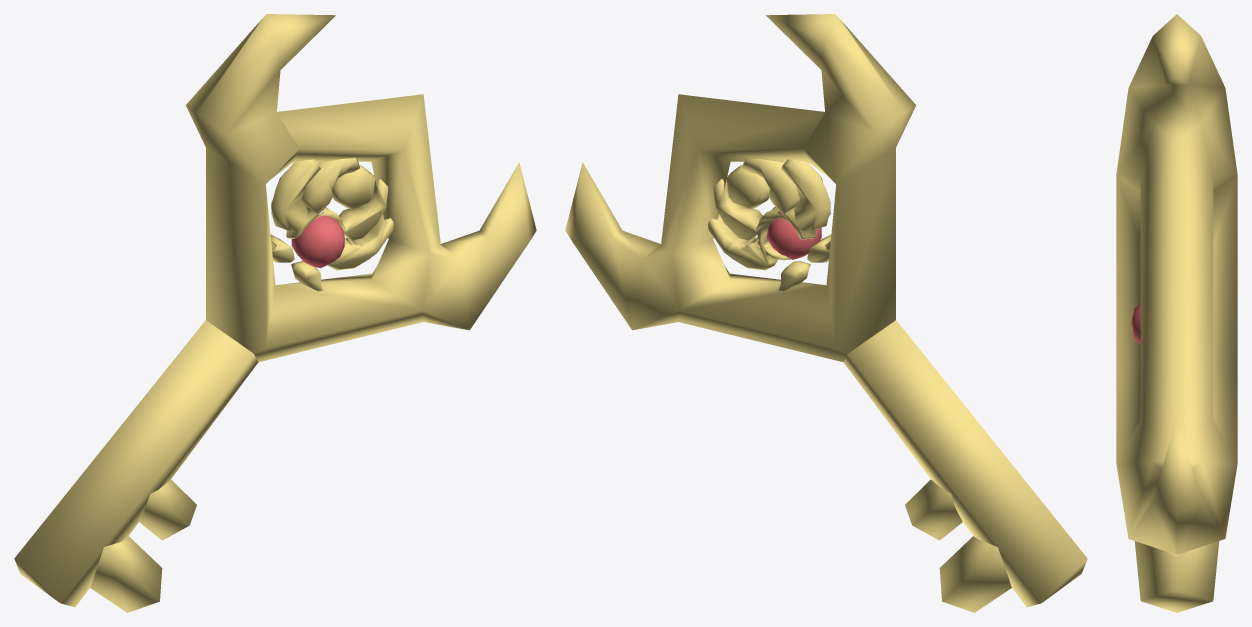
Rendered from StoneTowerBossKey.glb.
3 views of the same model, side by side, from view 1: azimuth 30°, elevation 25°; view 2: azimuth 150°, elevation 25°; view 3: azimuth 270°, elevation 25° (orthographic). The views are drawn at different scales.
Parts seen in each view (by area): view 1: StoneTowerBossKey; view 2: StoneTowerBossKey; view 3: StoneTowerBossKey.
Boxes of the visible parts, x1=… form: StoneTowerBossKey: x1=14, y1=14, x2=536, y2=612; StoneTowerBossKey: x1=565, y1=14, x2=1087, y2=612; StoneTowerBossKey: x1=1116, y1=14, x2=1237, y2=612.
Size of the model in its own units: 60 by 62 by 10.
